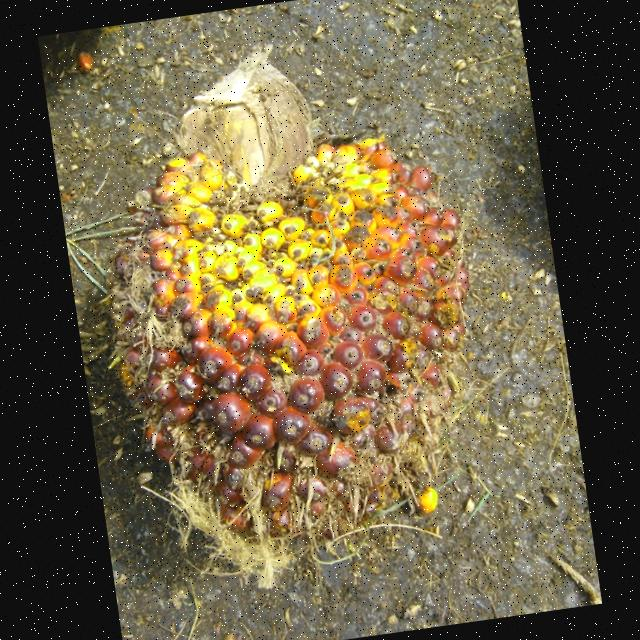Ripe: (128, 116, 473, 560)
